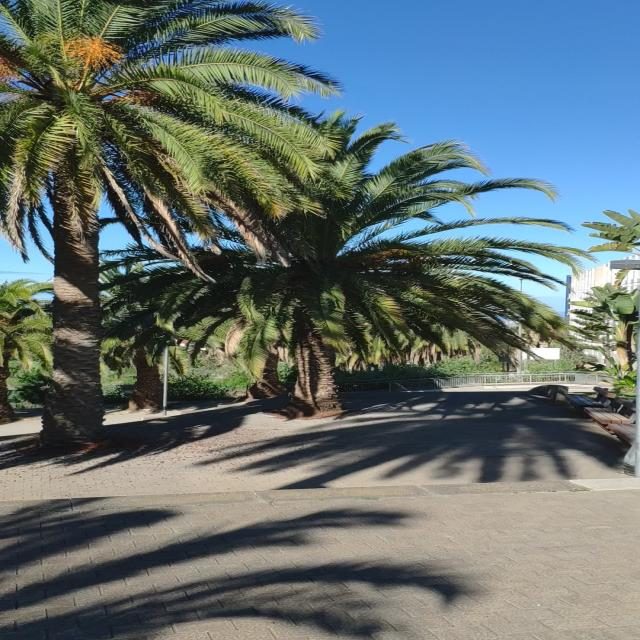Palm-Trees: (0, 0, 321, 449), (86, 123, 564, 419)
